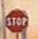stop: (4, 7, 28, 32)
